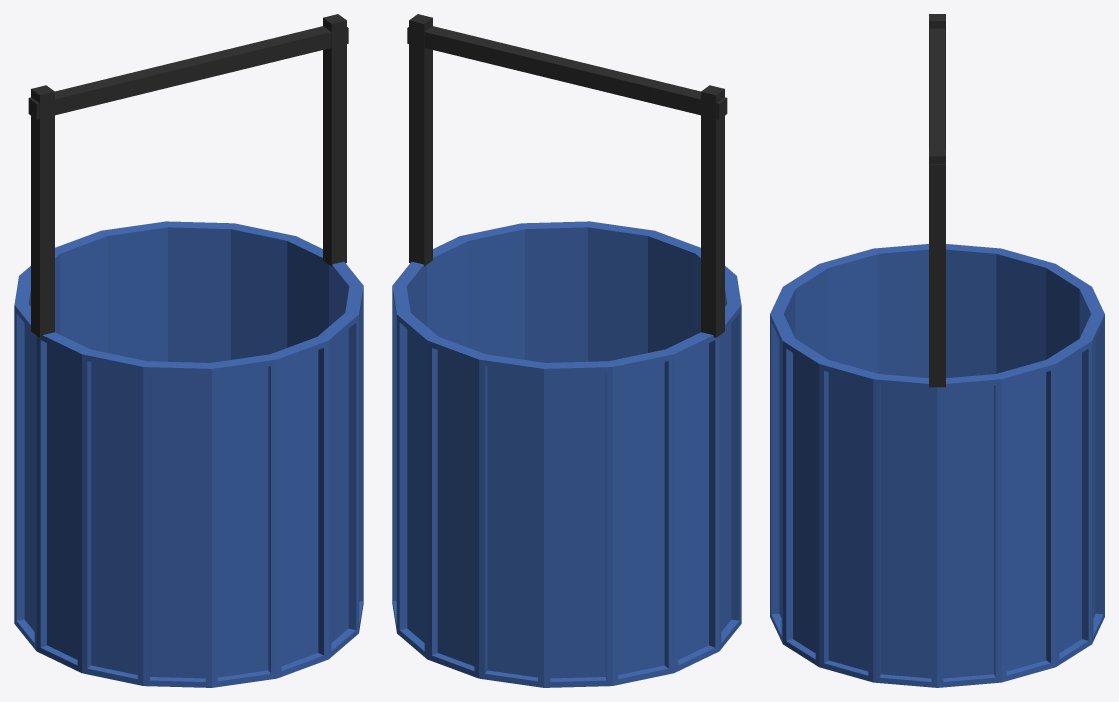
The model's file is cubeta.fbx.
3 renders of one model, left to right at view 1: azimuth 30°, elevation 25°; view 2: azimuth 150°, elevation 25°; view 3: azimuth 270°, elevation 25°, orthographic. The views are drawn at different scales.
Parts seen in each view (by area): view 1: Cubeta; view 2: Cubeta; view 3: Cubeta.
Boxes of the visible parts, x1,y1,x2,y2 form: Cubeta: (14, 14, 363, 687); Cubeta: (392, 14, 741, 687); Cubeta: (770, 14, 1104, 687).
Size of the model in its own units: 205 by 351 by 200.
